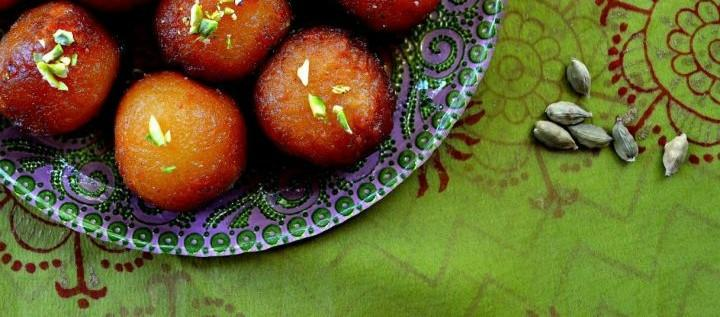GulabJamun: (255, 30, 395, 165), (114, 71, 245, 211), (0, 2, 119, 136), (155, 0, 293, 78), (339, 0, 440, 36)
